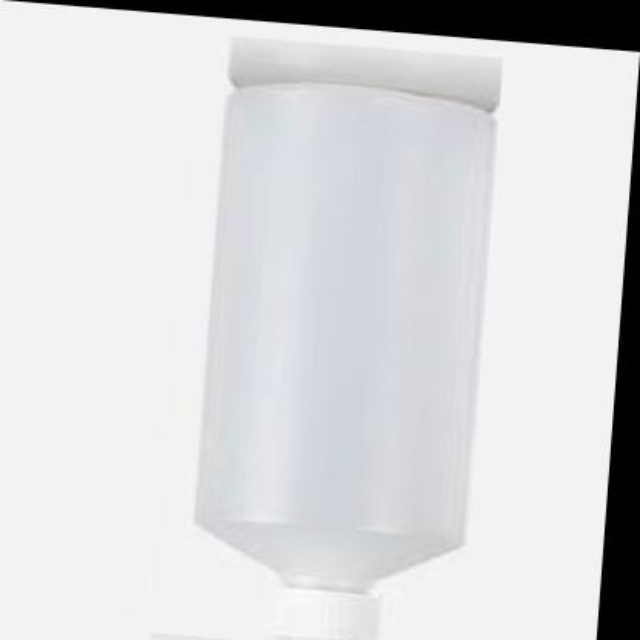trash: (197, 38, 500, 591)
